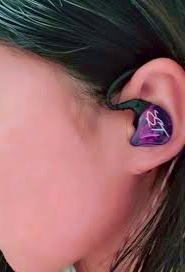earphone: (119, 57, 184, 175)
